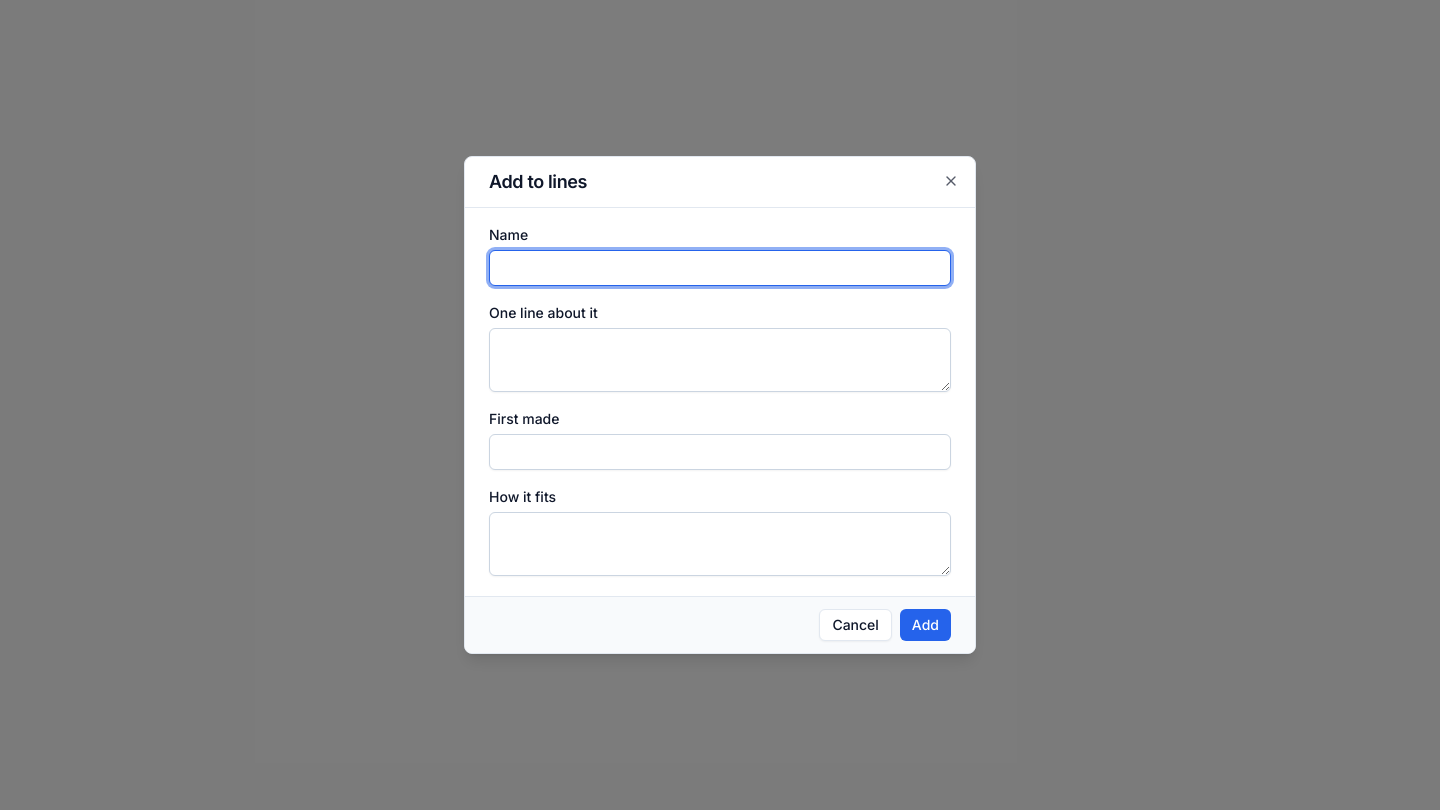
Test: saving from the add dialog › keeps the dialog and every typed value, with the shop's sentence beside its field
Type "Samba" into the field labelled "Name". click: (720, 268)
box: [489, 250, 951, 286]
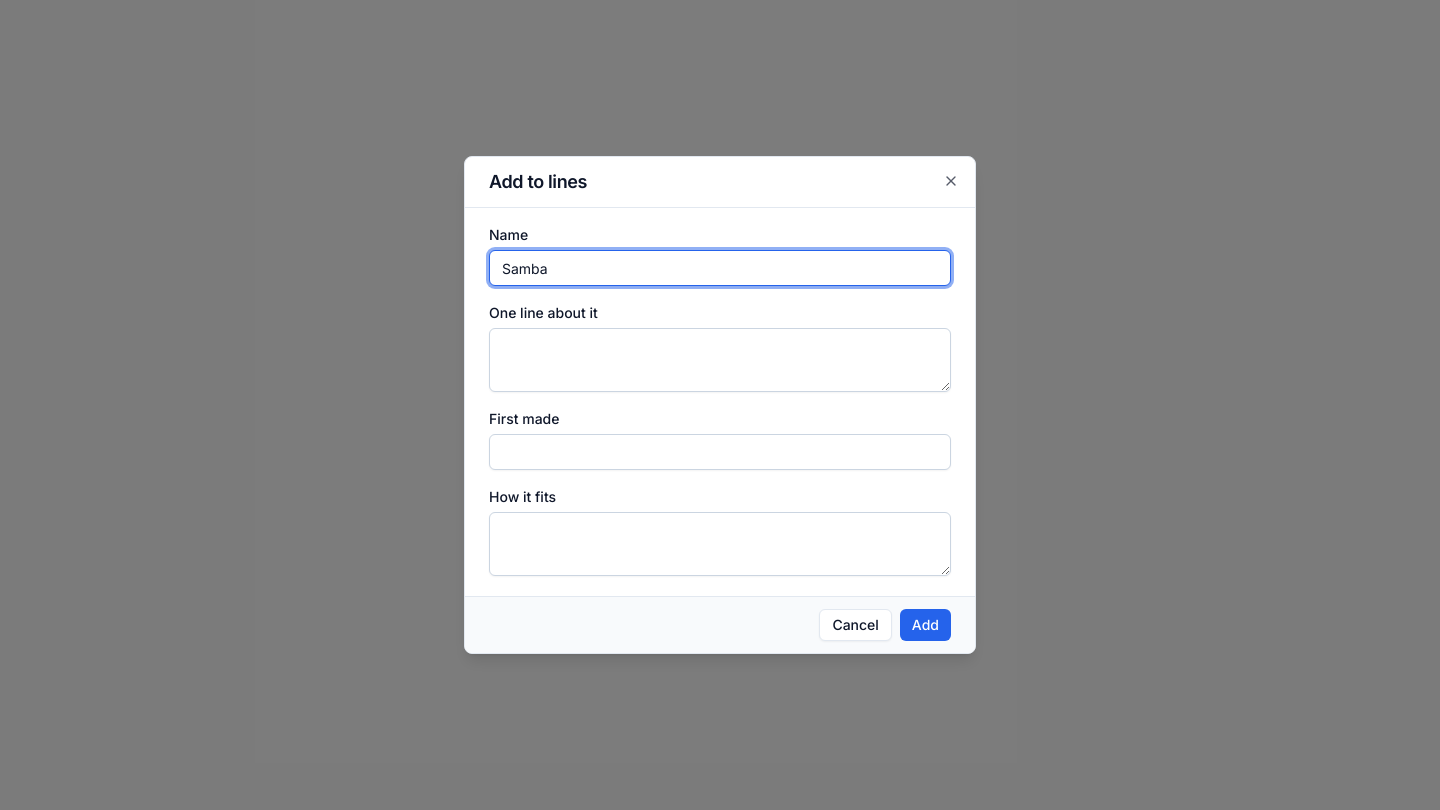
Type "1949" into the number field labelled "First made". click: (720, 452)
box: [489, 434, 951, 470]
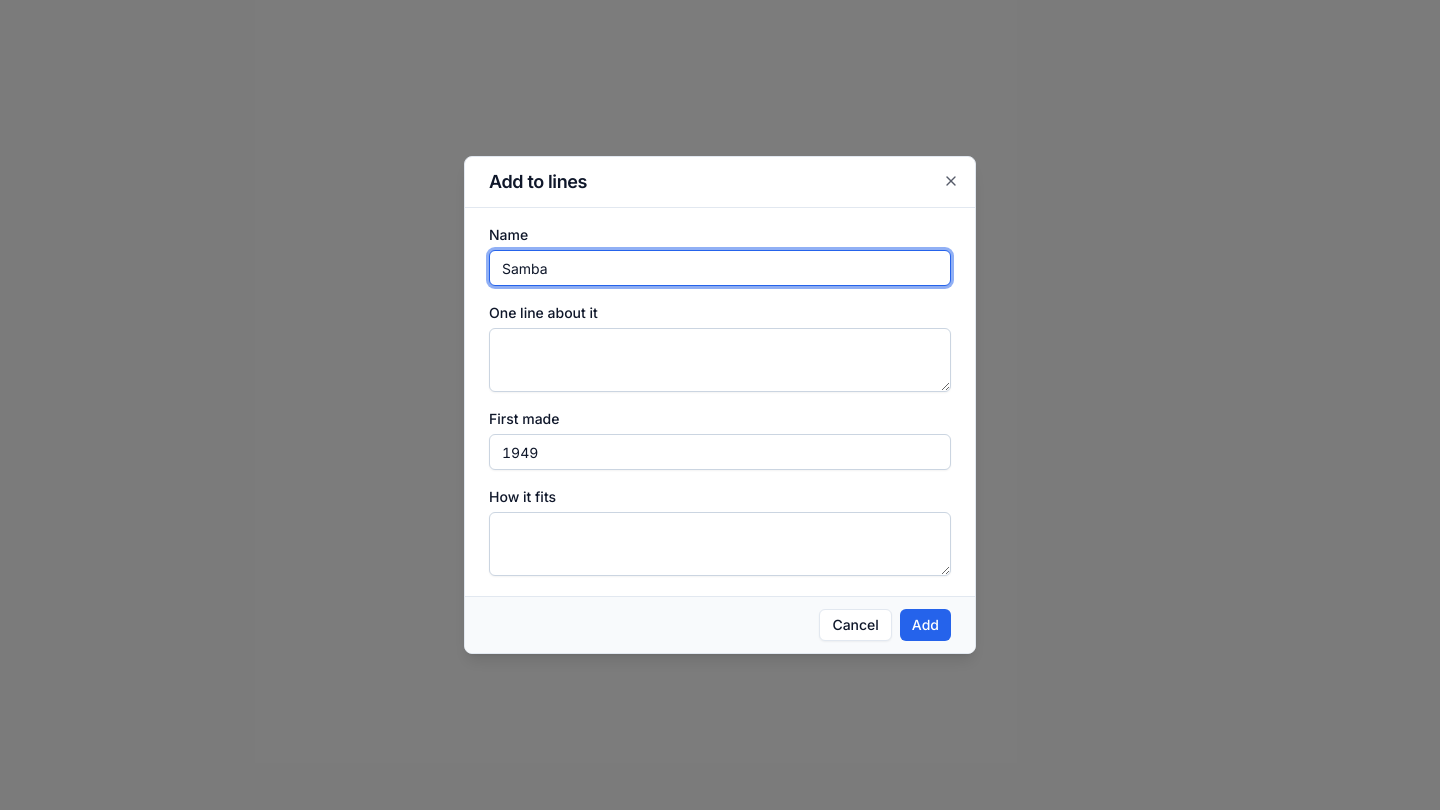
Click the button "Add". click: (925, 625)
box: [900, 609, 951, 641]
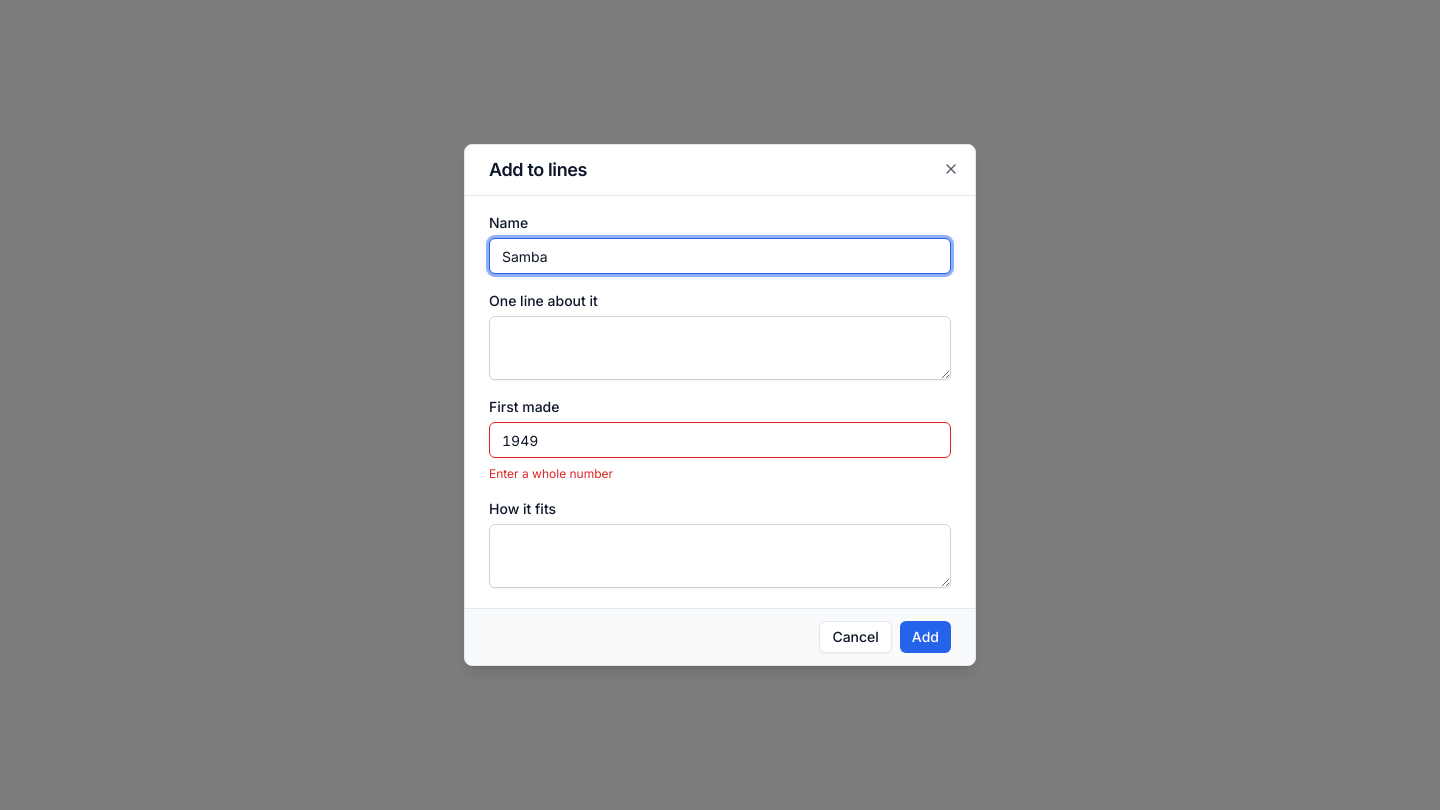
Expected: the button "Add" is enabled, [900, 621, 951, 653]
Expected: the number field labelled "First made" is marked as invalid
Replace the text in the number field labelled "First made" with "1950". click: (720, 440)
box: [489, 422, 951, 458]
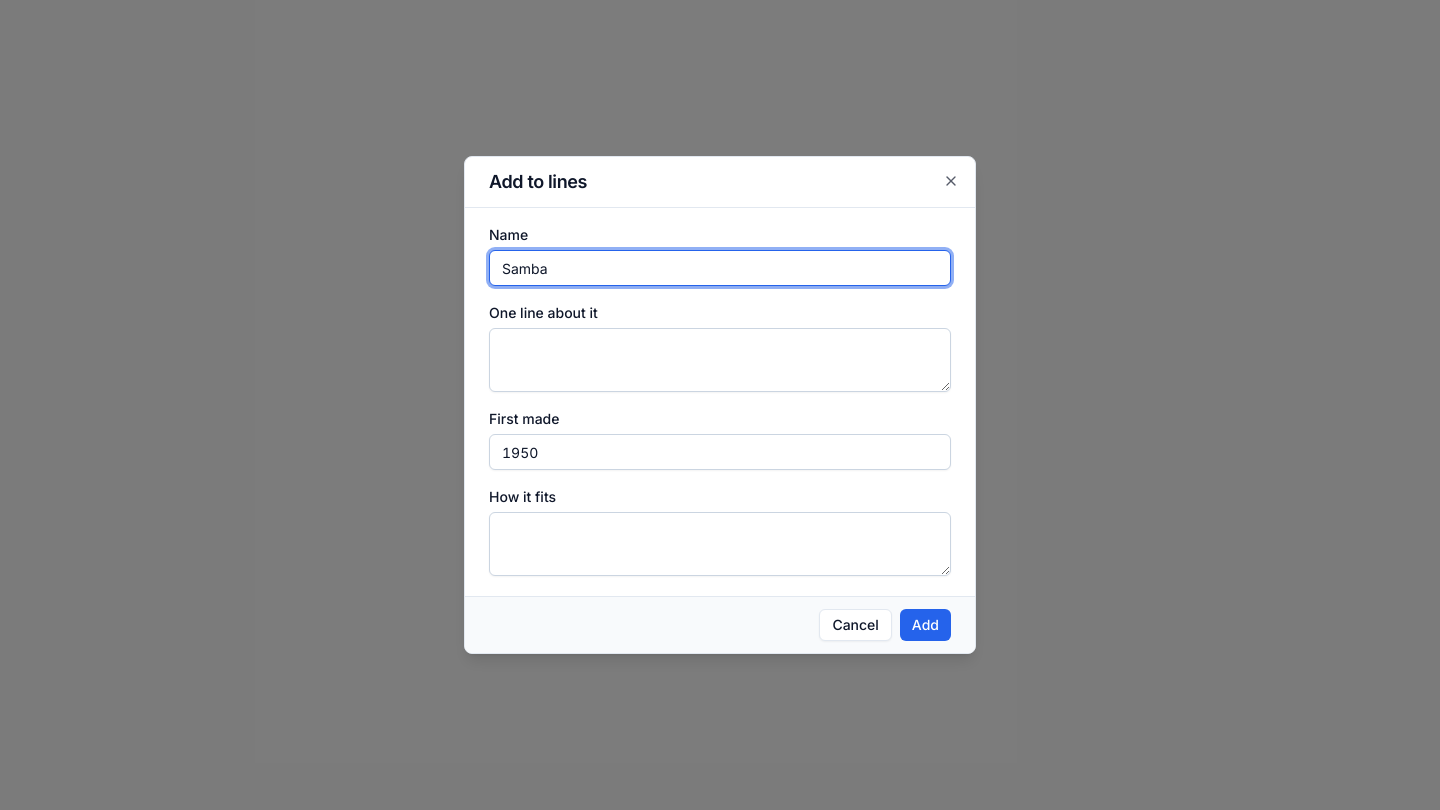
Expected: the text "Enter a whole number" is gone
